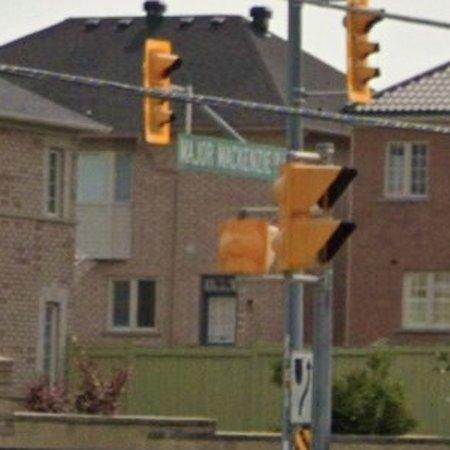chimneys: (143, 0, 166, 30), (251, 6, 273, 35)
